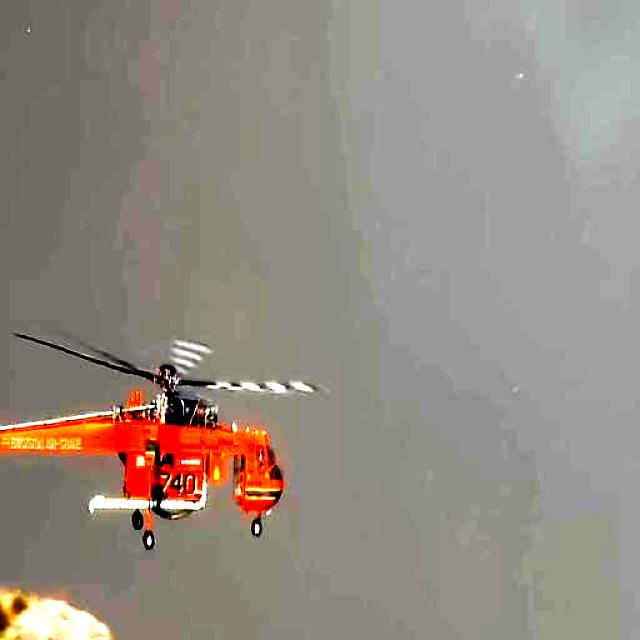drone: (0, 306, 335, 560)
